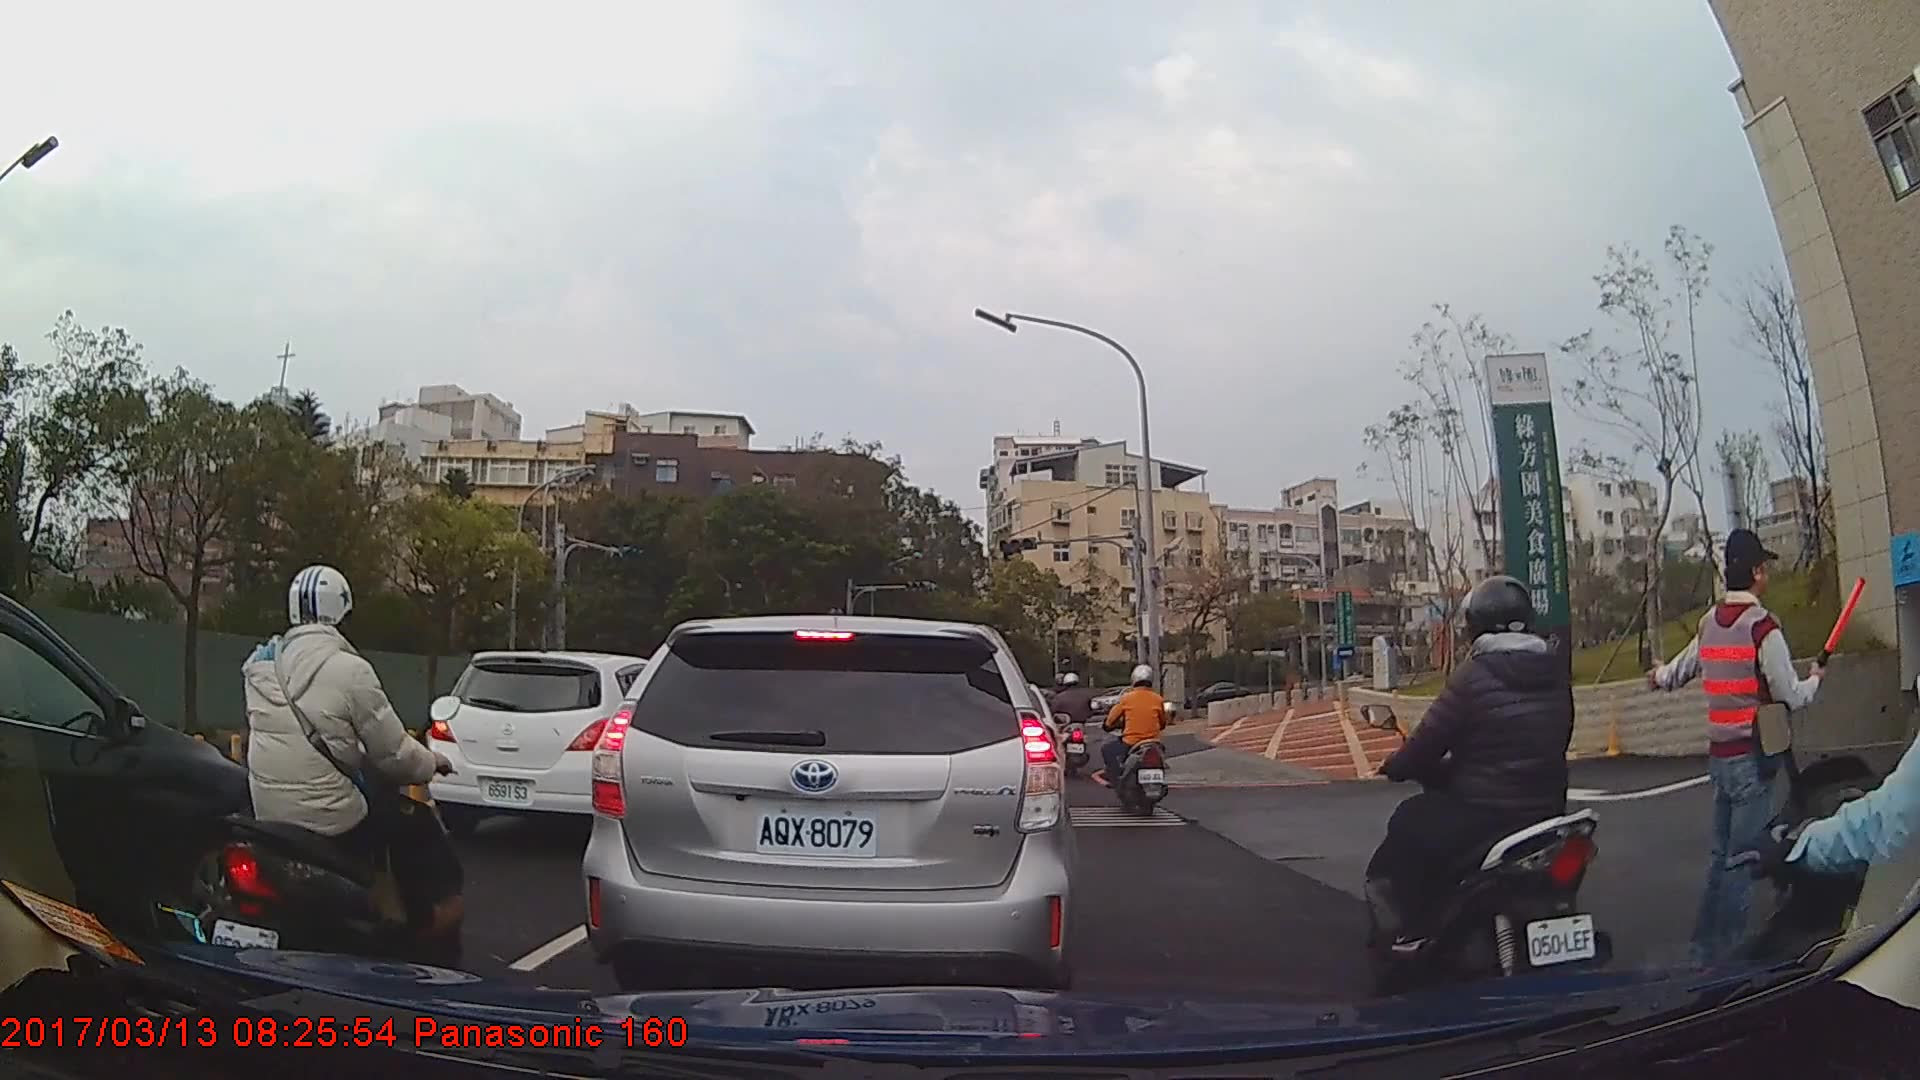pedestrian: (1641, 526, 1858, 984)
rider: (202, 563, 475, 1010), (1368, 576, 1613, 994), (1099, 659, 1174, 815), (1053, 669, 1096, 776)
vehicle: (576, 613, 1075, 990), (0, 589, 287, 959), (425, 649, 684, 840), (1183, 679, 1253, 717)
